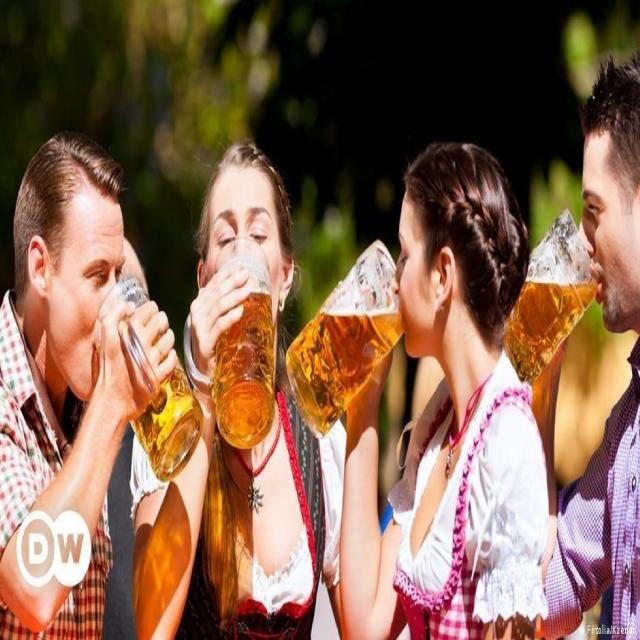glass-mug: (171, 251, 290, 456), (286, 232, 404, 438), (100, 274, 203, 492), (515, 156, 595, 424)
